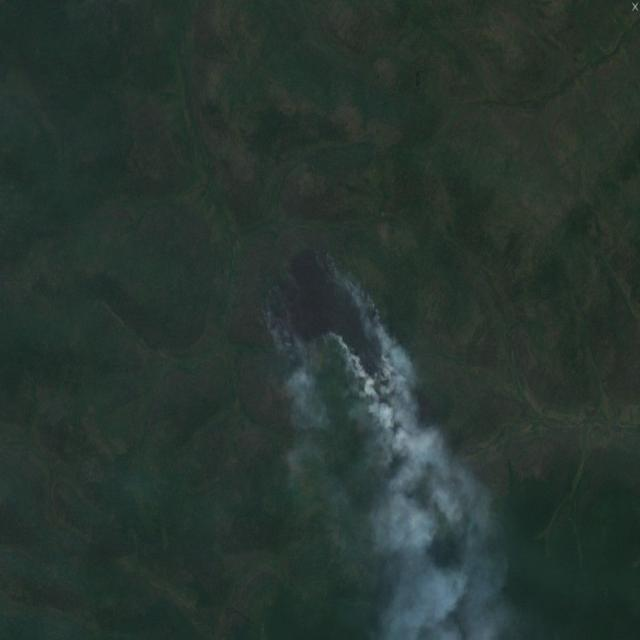fire: (257, 236, 387, 380)
